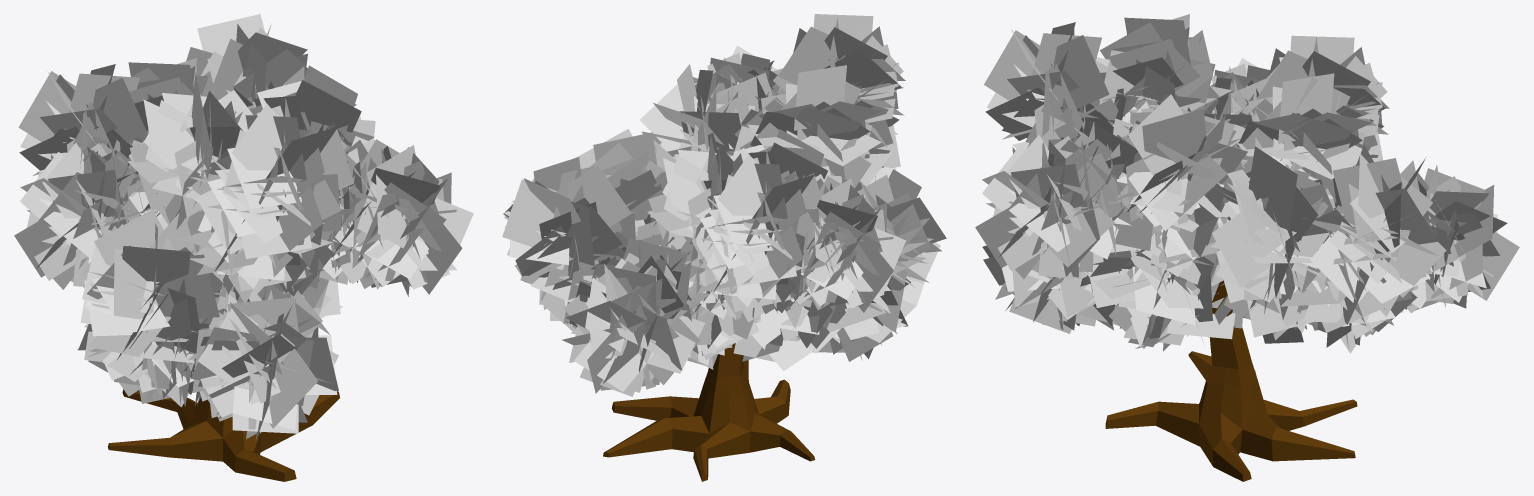
Rendered from Tree_Green_02.glb.
The picture shows the model from 3 angles, left to right: view 1: azimuth 30°, elevation 25°; view 2: azimuth 150°, elevation 25°; view 3: azimuth 270°, elevation 25°; orthographic projection. The views are drawn at different scales.
Parts seen in each view (by area): view 1: TreeGreen_02; view 2: TreeGreen_02; view 3: TreeGreen_02.
Part boxes in pixels (x1,y1,x2,y2): TreeGreen_02: (14,14,473,481); TreeGreen_02: (502,14,946,481); TreeGreen_02: (975,14,1519,481).
Bounding box in the file's own units: 13.44 × 14.6 × 18.14.
